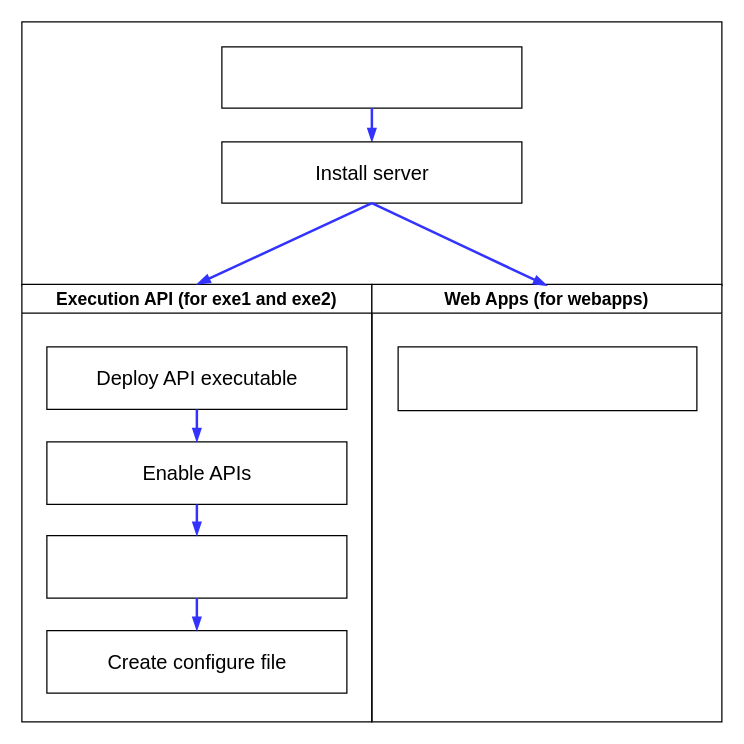
This 744x744 diagram has some shape labels left out. The shapes that lost their labels are listed below. From the top down, each one's centre as x and y in pixels, then its label:
At (371,77): "Create project".
At (547,378): "Deploy Web Apps".
At (196,566): "Get Client ID, Client Secret".
